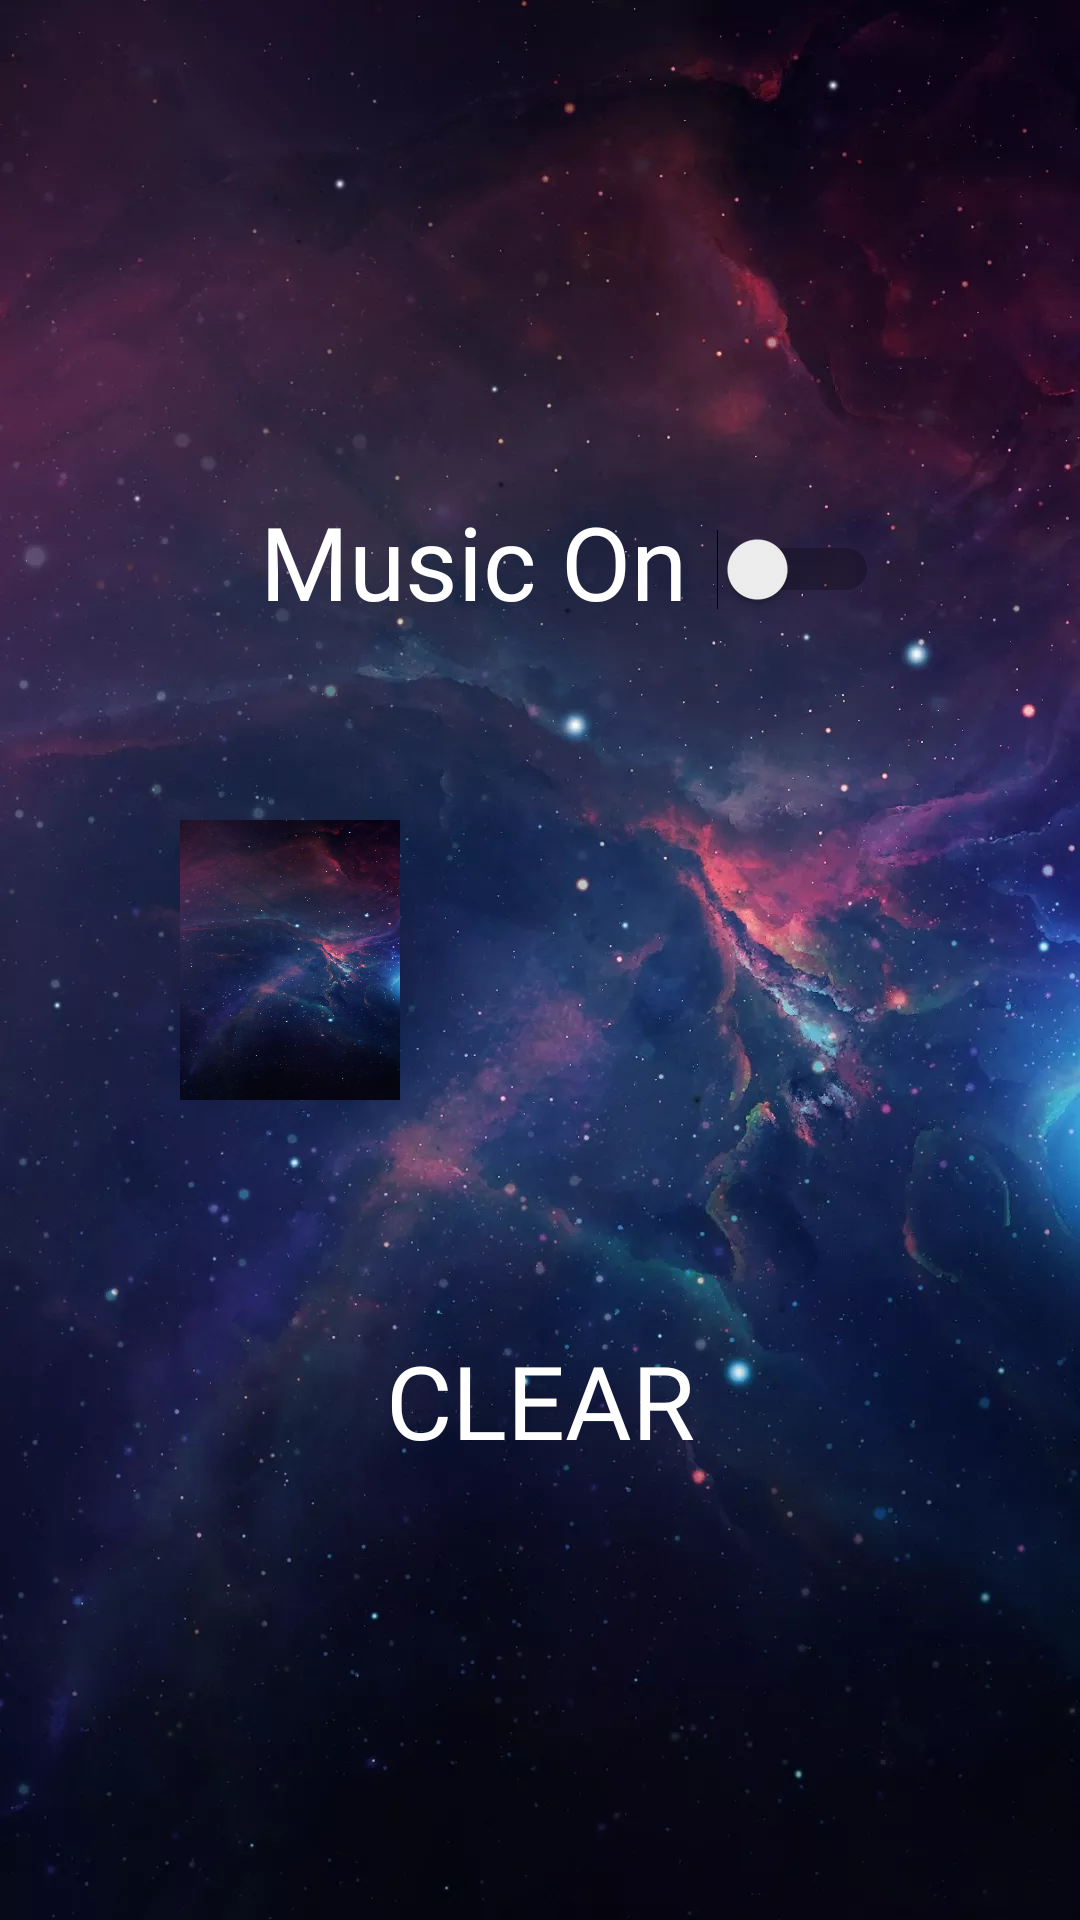

Icons on this 1080w x 1920h Android screen, each with the point to tap as (x,y):
bac: (290,960)
